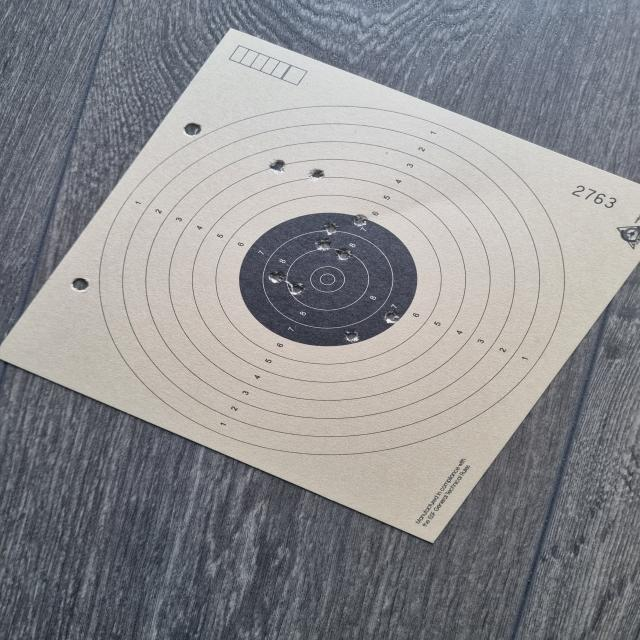4: (268, 160, 286, 173)
5: (308, 168, 325, 180)
7: (384, 310, 400, 324), (353, 214, 367, 227), (344, 331, 359, 343)
8: (323, 222, 338, 235), (268, 272, 284, 284)
9: (284, 280, 305, 295), (315, 238, 332, 251), (335, 248, 352, 260)
Target: (100, 106, 567, 456)
black_contour: (242, 212, 418, 347)
